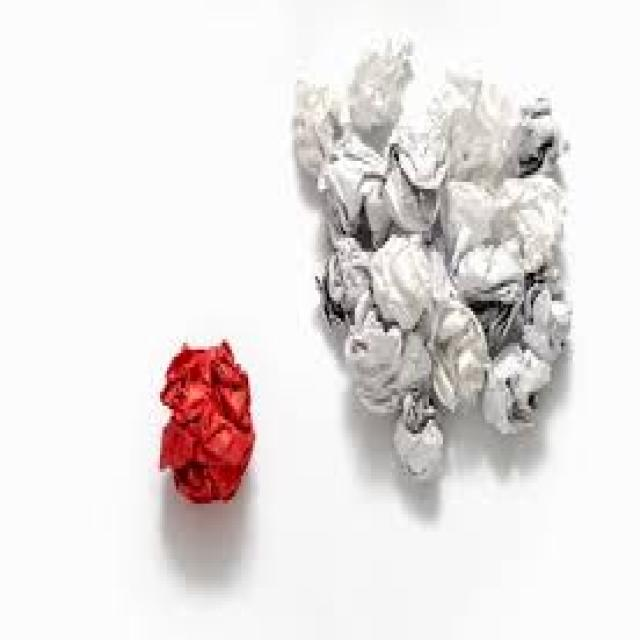paper: (160, 339, 253, 507), (434, 161, 524, 290), (429, 66, 510, 182), (348, 304, 429, 416), (318, 129, 392, 245), (344, 39, 411, 151), (427, 294, 487, 413), (369, 220, 429, 336), (378, 136, 443, 231), (485, 343, 550, 434), (292, 77, 343, 185), (508, 165, 559, 270), (315, 231, 369, 325), (505, 94, 566, 175), (397, 399, 441, 483), (524, 283, 570, 360), (417, 241, 450, 301)
